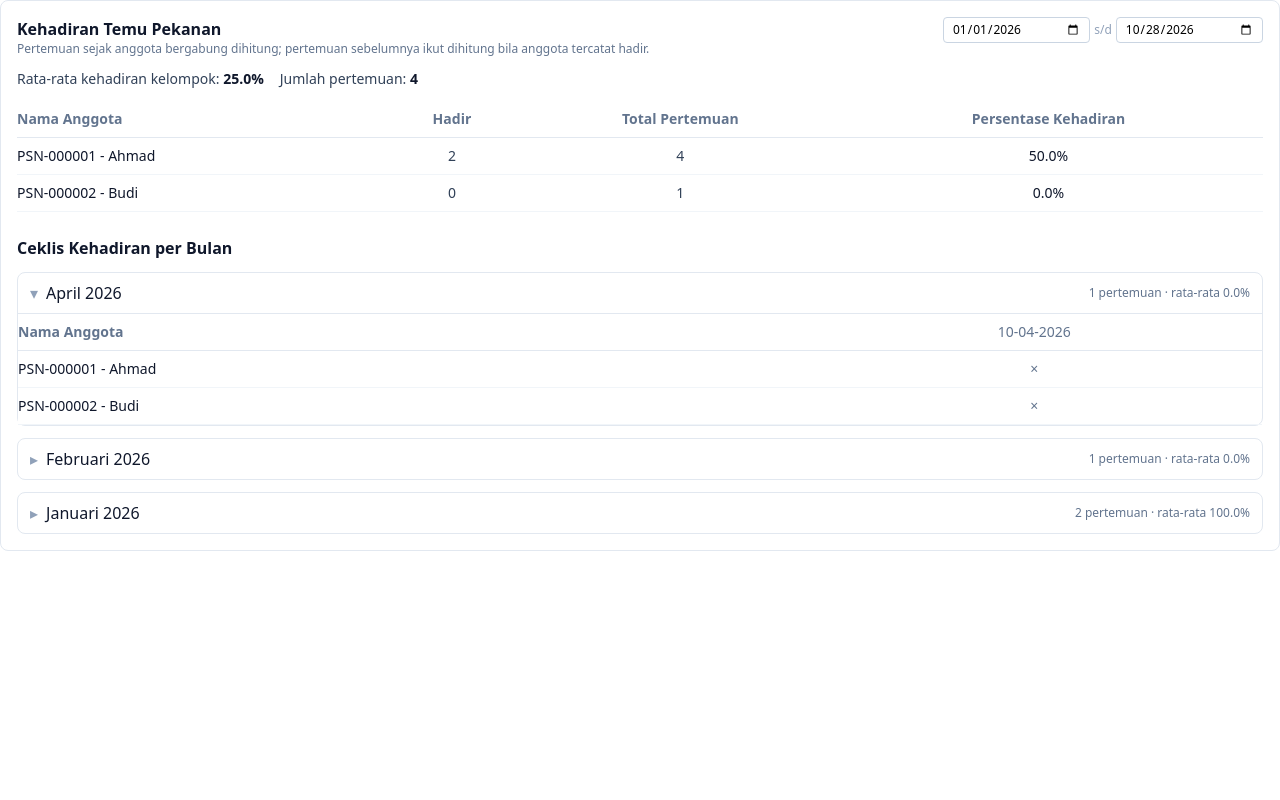
it: GroupAttendanceSection monthly checklists › opens the newest month by default and toggles a month
Click the button "▸ Januari 2026 2 pertemuan · rata-rata 100.0%".
click(93, 513)  # box 18,493 -> 1262,533
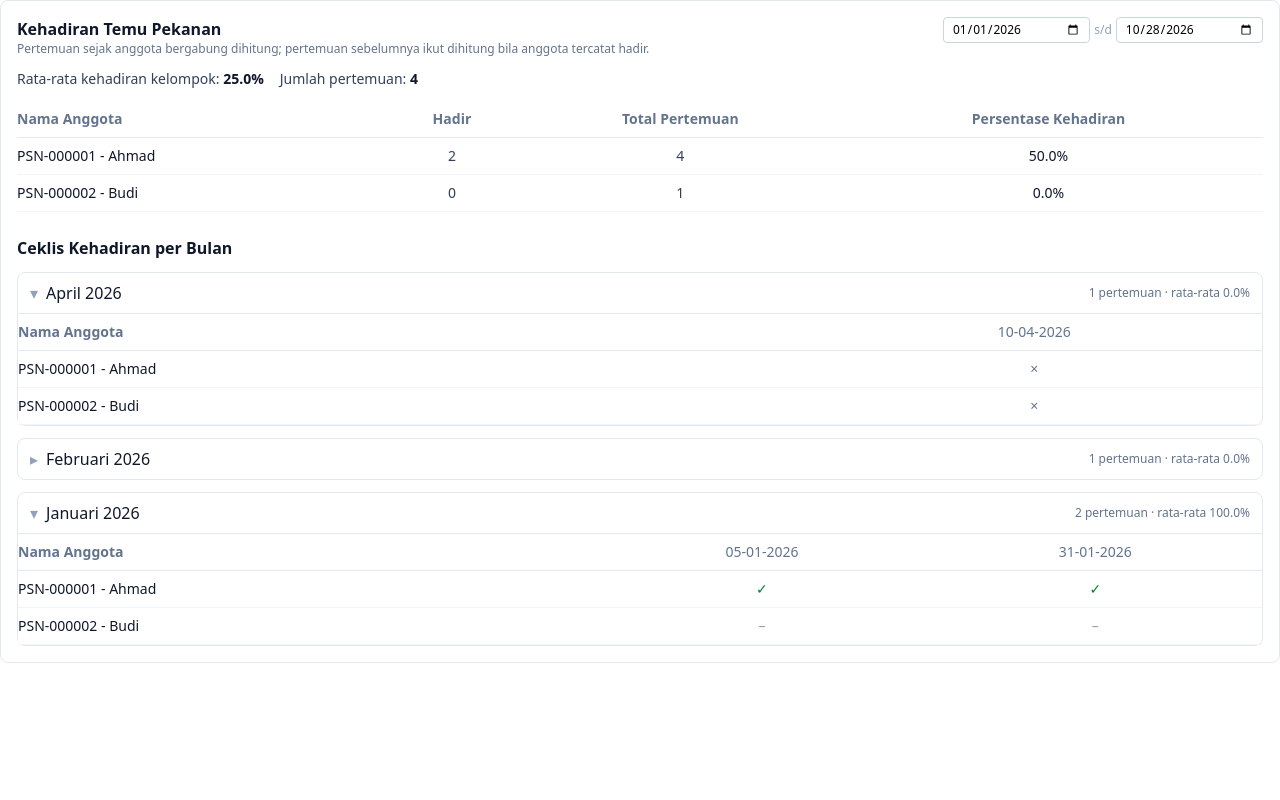
expect the button "▾ Januari 2026 2 pertemuan · rata-rata 100.0%" is expanded: met, box 18,493 -> 1262,533
